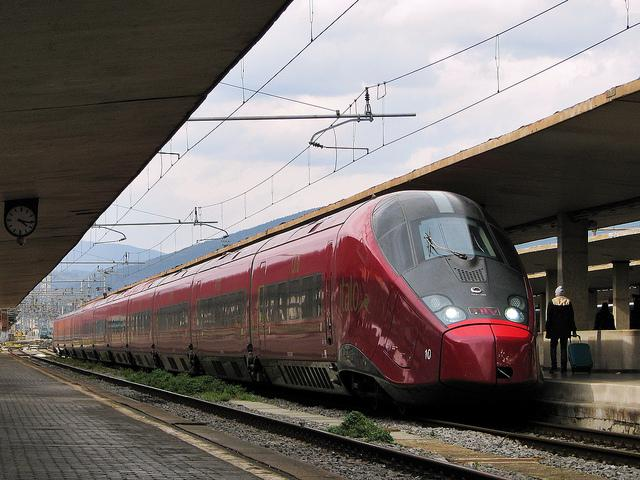Train: (57, 194, 546, 406)
